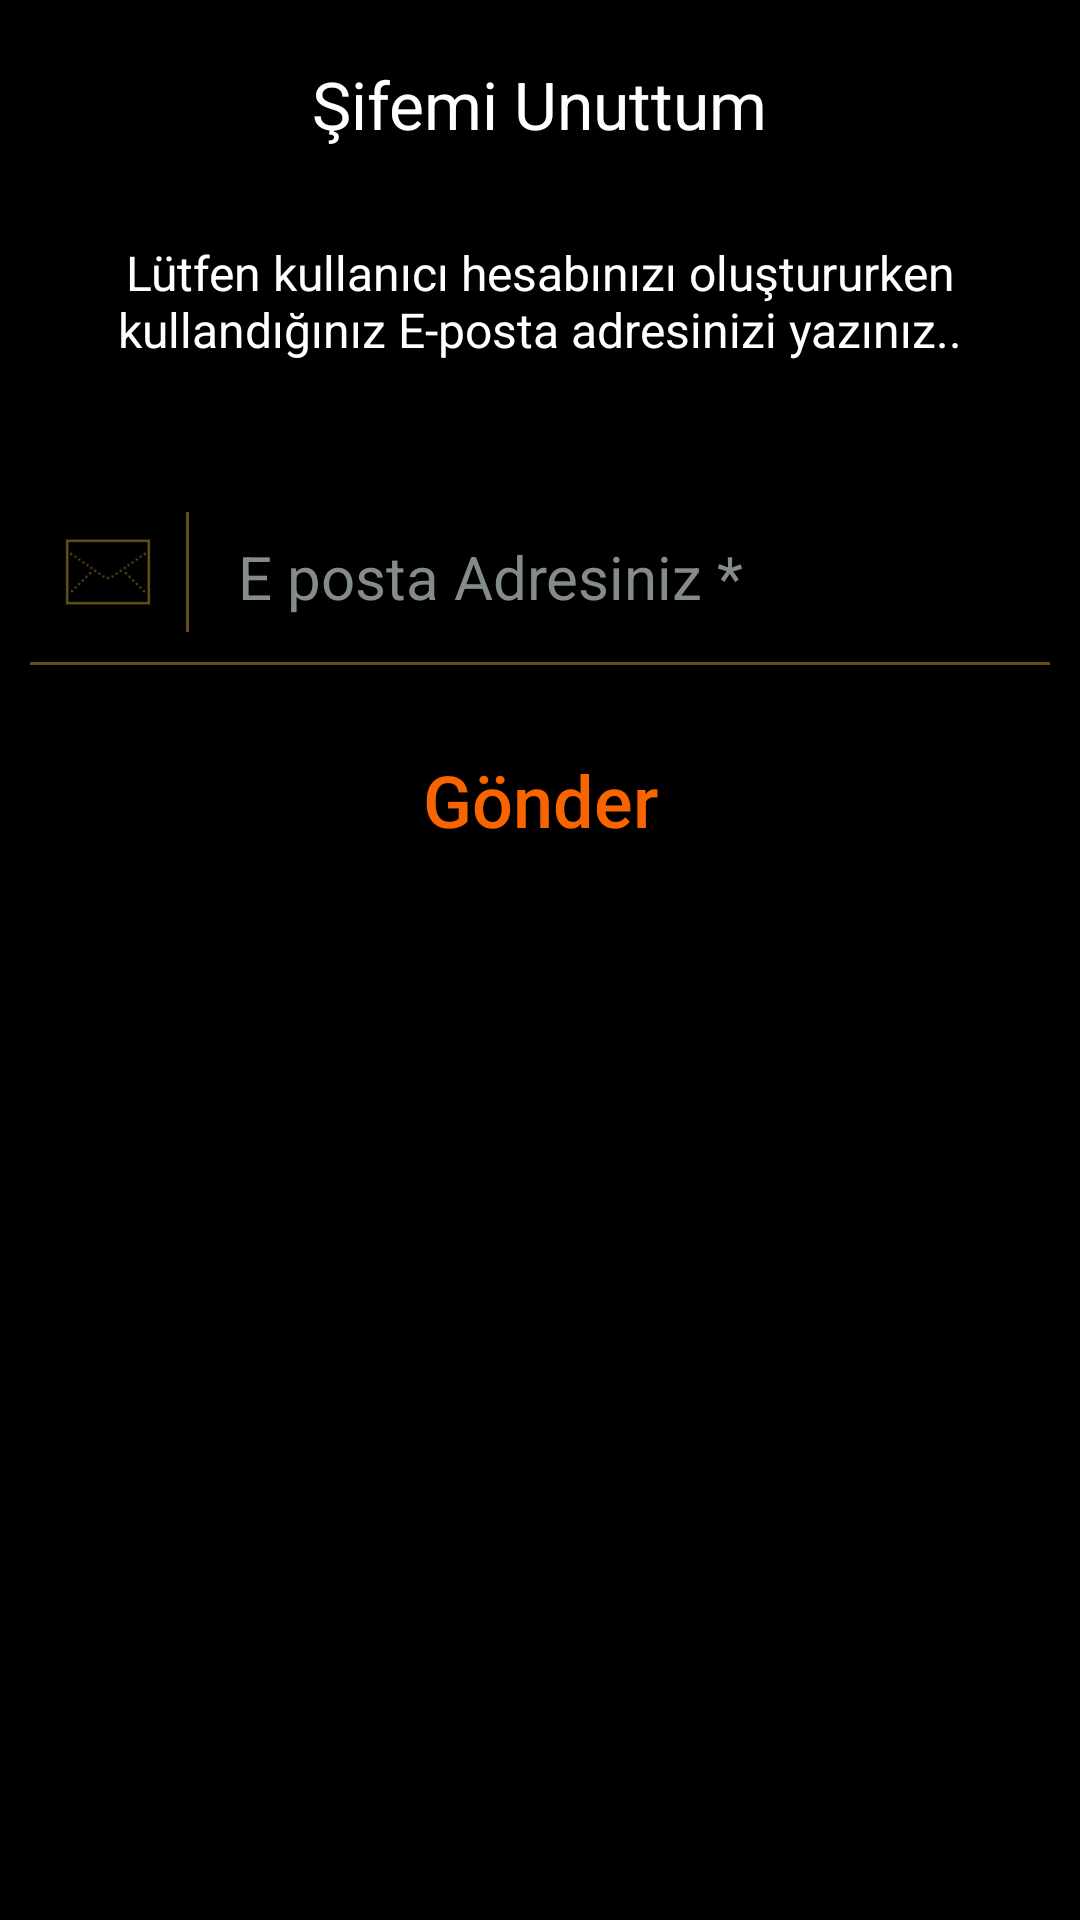

Screen size 1080w x 1920h. Icon name, then its center in pixels as (x,y):
mail: (108,572)
